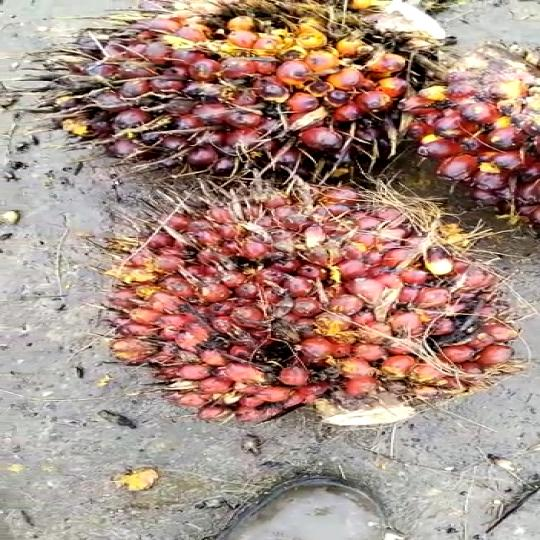masak: (79, 168, 540, 451), (27, 0, 453, 174)
